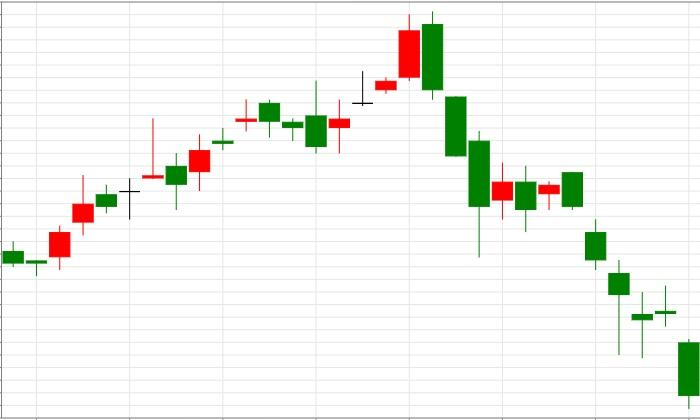bearish_engulfing_fall: (305, 12, 444, 154)
